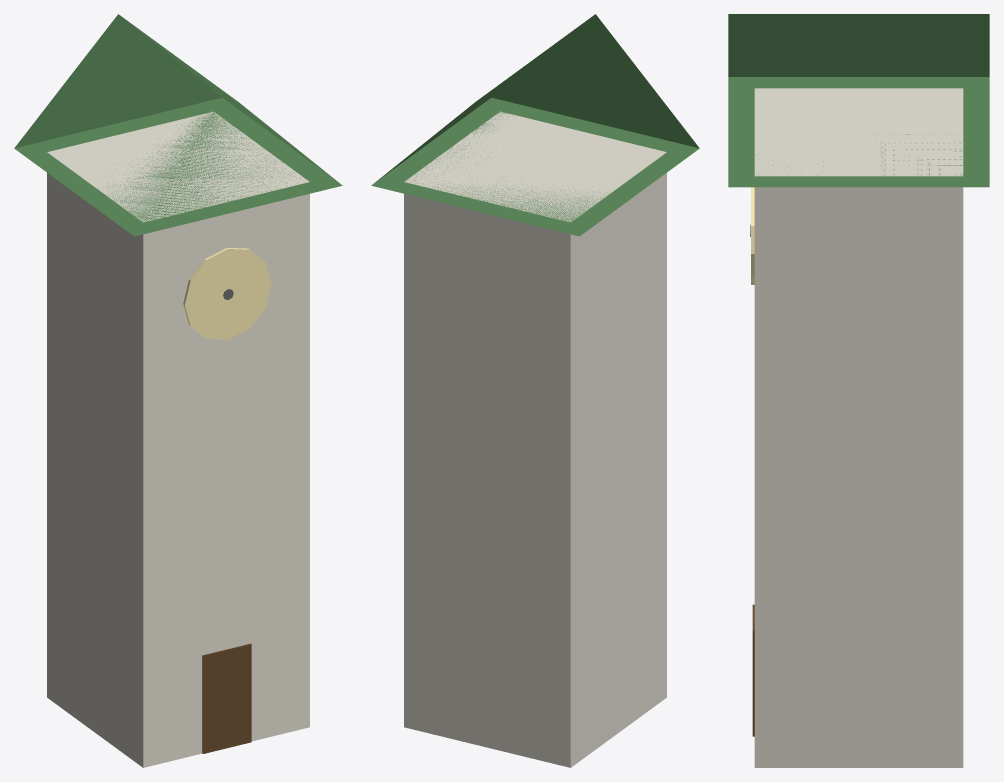
The model's file is tower.glb.
The picture shows the model from 3 angles, left to right: view 1: azimuth 30°, elevation 25°; view 2: azimuth 150°, elevation 25°; view 3: azimuth 270°, elevation 25°; orthographic projection. The views are drawn at different scales.
Visible parts, largest first — view 1: tower; view 2: tower; view 3: tower.
Part boxes in pixels (x1,y1,x2,y2): tower: [14, 14, 342, 767]; tower: [371, 14, 699, 767]; tower: [728, 14, 989, 767].
Size of the model in its own units: 6 by 18 by 6.
